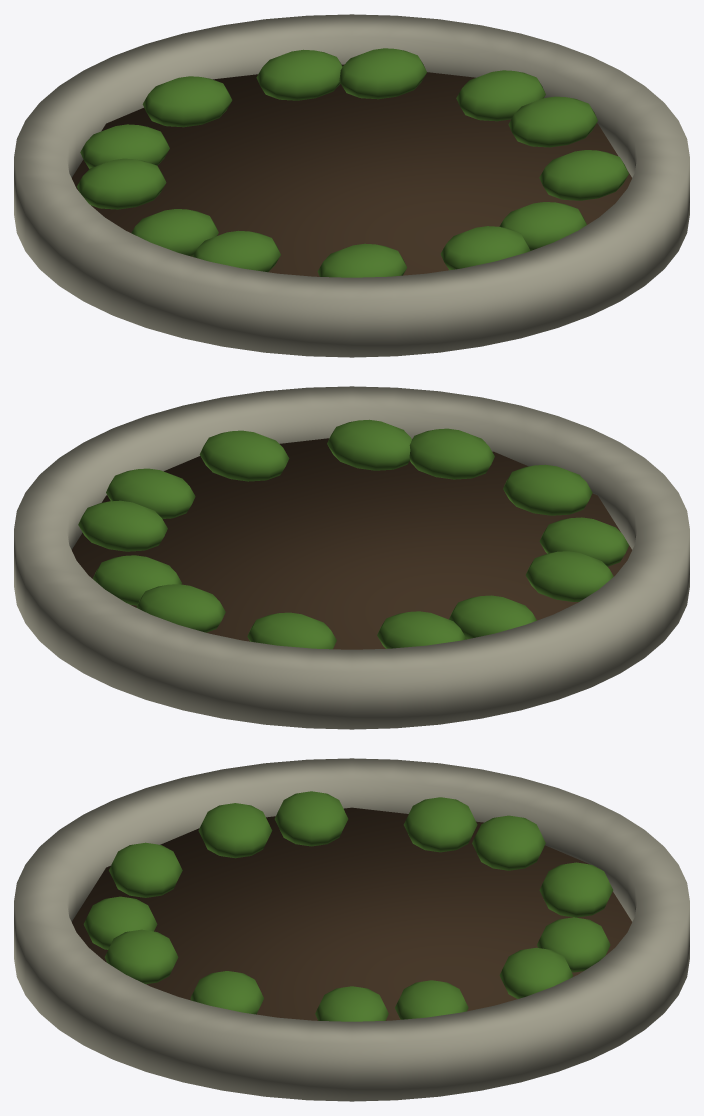
The picture shows the model from 3 angles, top to bottom: view 1: azimuth 30°, elevation 25°; view 2: azimuth 150°, elevation 25°; view 3: azimuth 270°, elevation 25°; orthographic projection.
Visible parts, largest first — view 1: Low stone ring, Soil, Ground cover.007, Ground cover.001, Ground cover.006, Ground cover.004, Ground cover.010, Ground cover.012, Ground cover.009, Ground cover.002, Ground cover.003, Ground cover.005 (+3 smaller); view 2: Low stone ring, Soil, Ground cover.009, Ground cover.006, Ground cover.008, Ground cover.003, Ground cover.011, Ground cover.005, Ground cover.001, Ground cover.012, Ground cover, Ground cover.004 (+3 smaller); view 3: Low stone ring, Soil, Ground cover.005, Ground cover.002, Ground cover.007, Ground cover.008, Ground cover.010, Ground cover, Ground cover.011, Ground cover.012, Ground cover.004, Ground cover.003 (+3 smaller).
Boxes of the visible parts, bbox=[...] form: Low stone ring: bbox=[14, 14, 689, 357]; Soil: bbox=[72, 64, 631, 276]; Ground cover.007: bbox=[142, 76, 232, 127]; Ground cover.001: bbox=[508, 96, 597, 147]; Ground cover.006: bbox=[539, 150, 628, 200]; Ground cover.004: bbox=[339, 48, 426, 99]; Ground cover.010: bbox=[77, 158, 166, 209]; Ground cover.012: bbox=[256, 49, 342, 100]; Ground cover.009: bbox=[456, 70, 545, 121]; Ground cover.002: bbox=[80, 124, 169, 168]; Ground cover.003: bbox=[440, 226, 529, 270]; Ground cover.005: bbox=[131, 209, 218, 256]; Low stone ring: bbox=[14, 386, 689, 729]; Soil: bbox=[72, 438, 631, 649]; Ground cover.009: bbox=[78, 500, 167, 551]; Ground cover.006: bbox=[199, 430, 289, 481]; Ground cover.008: bbox=[503, 464, 592, 515]; Ground cover.003: bbox=[409, 428, 494, 479]; Ground cover.011: bbox=[327, 419, 411, 470]; Ground cover.005: bbox=[525, 551, 613, 601]; Ground cover.001: bbox=[106, 468, 195, 518]; Ground cover.012: bbox=[136, 584, 225, 632]; Ground cover: bbox=[539, 517, 628, 566]; Ground cover.004: bbox=[93, 555, 181, 605]; Low stone ring: bbox=[14, 758, 689, 1101]; Soil: bbox=[72, 807, 631, 1020]; Ground cover.005: bbox=[274, 791, 348, 846]; Ground cover.002: bbox=[472, 815, 545, 870]; Ground cover.007: bbox=[539, 862, 613, 917]; Ground cover.008: bbox=[109, 842, 182, 897]; Ground cover.010: bbox=[403, 797, 477, 852]; Ground cover: bbox=[198, 803, 272, 858]; Ground cover.011: bbox=[104, 929, 178, 984]; Ground cover.012: bbox=[537, 917, 610, 972]; Ground cover.004: bbox=[499, 947, 573, 998]; Ground cover.003: bbox=[83, 896, 157, 949].
Size of the model in its own units: 2.56 by 0.265 by 2.56.
